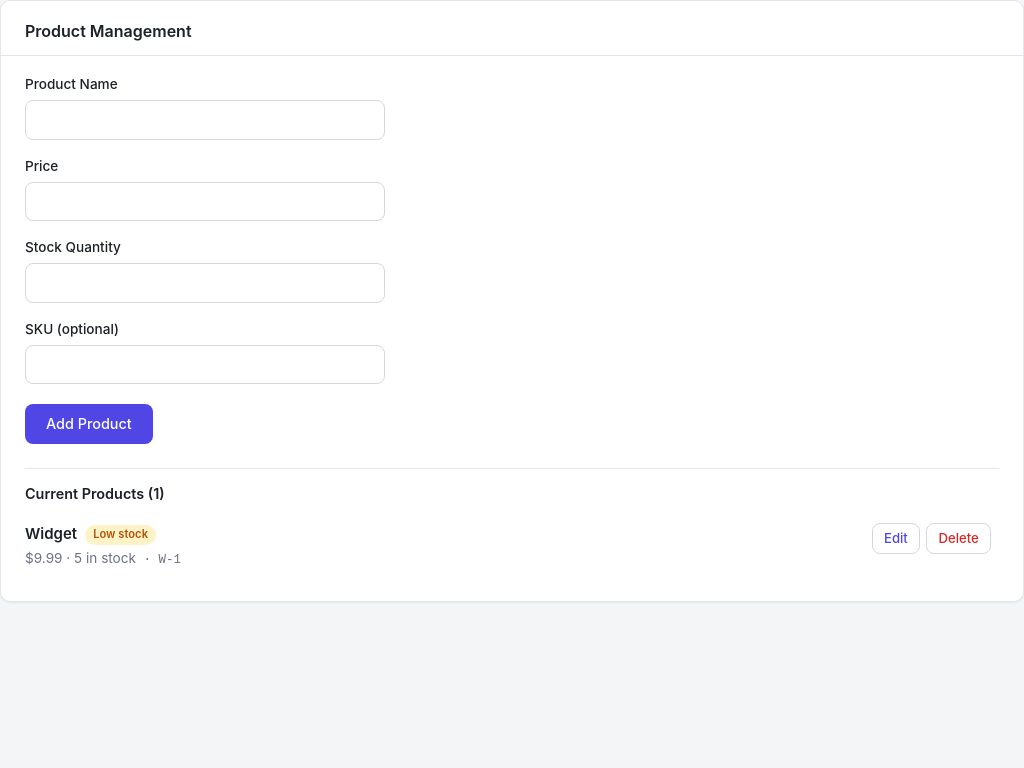
ProductManagement › Cancel Edit restores the empty add form
This screenshot has width=1024, height=768.
Expected: the text "Widget" is shown, [25,524,77,543]
Click the button "Edit" at (896, 538), box [872,523,920,554]
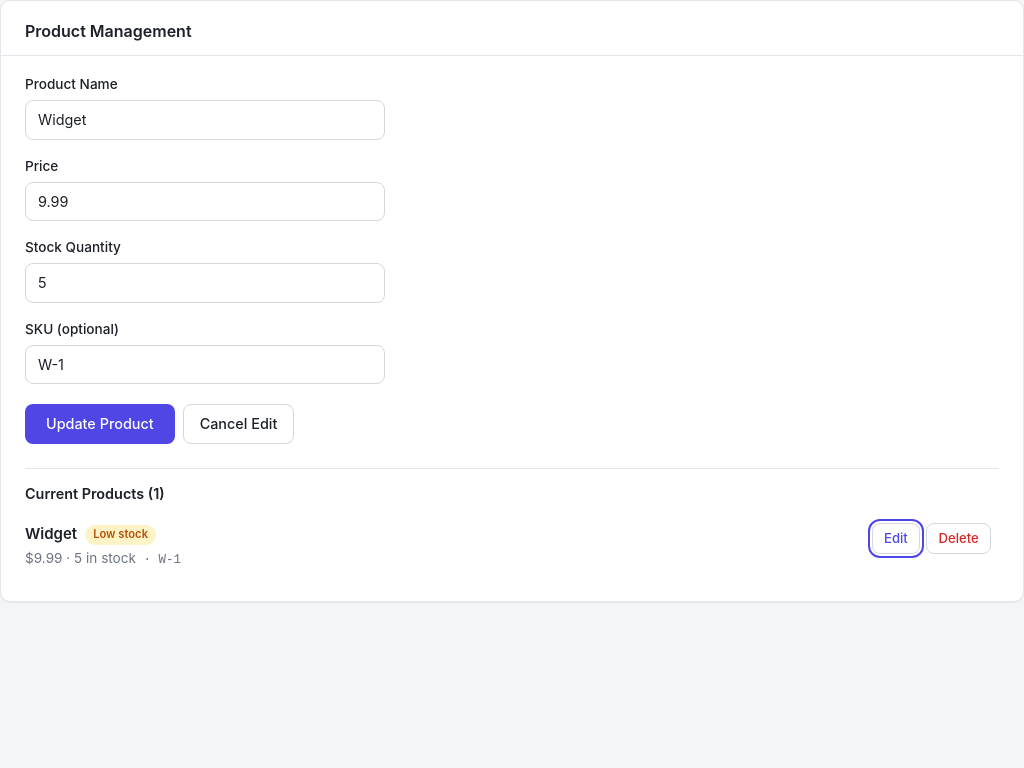
Click the button "Cancel Edit" at (238, 424), box [183,404,294,444]
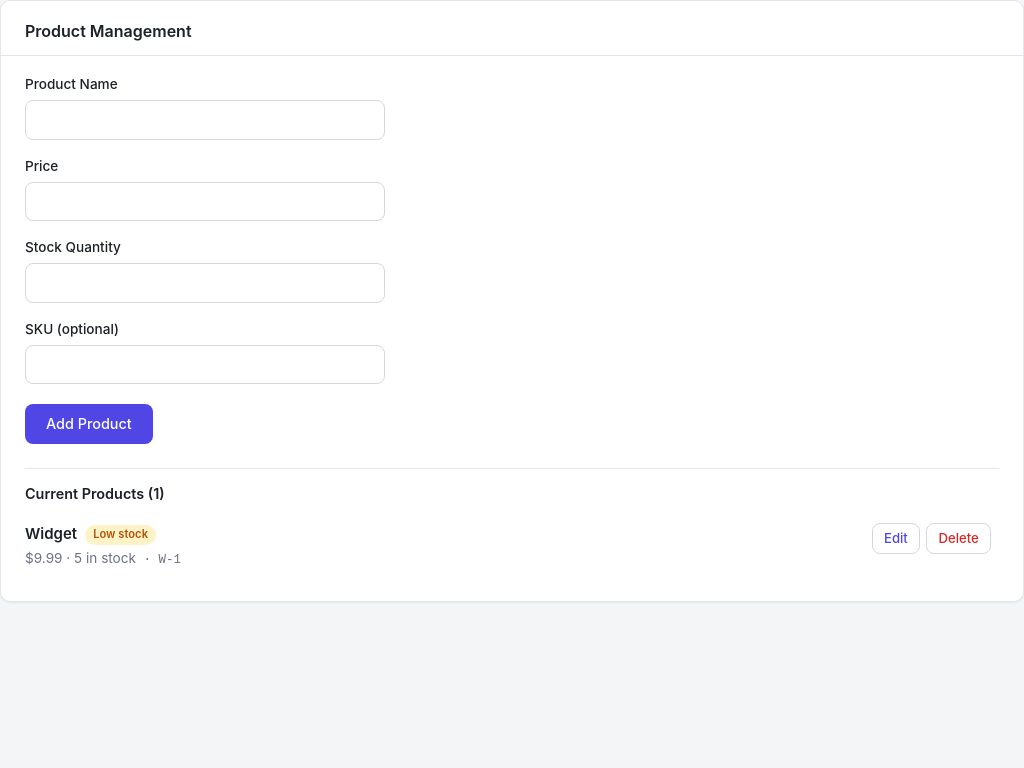
Expected: the field labelled "Product Name" is empty, [25,100,385,140]
Expected: the button "Add Product" is shown, [25,404,153,444]
Expected: the button "Cancel Edit" is gone
